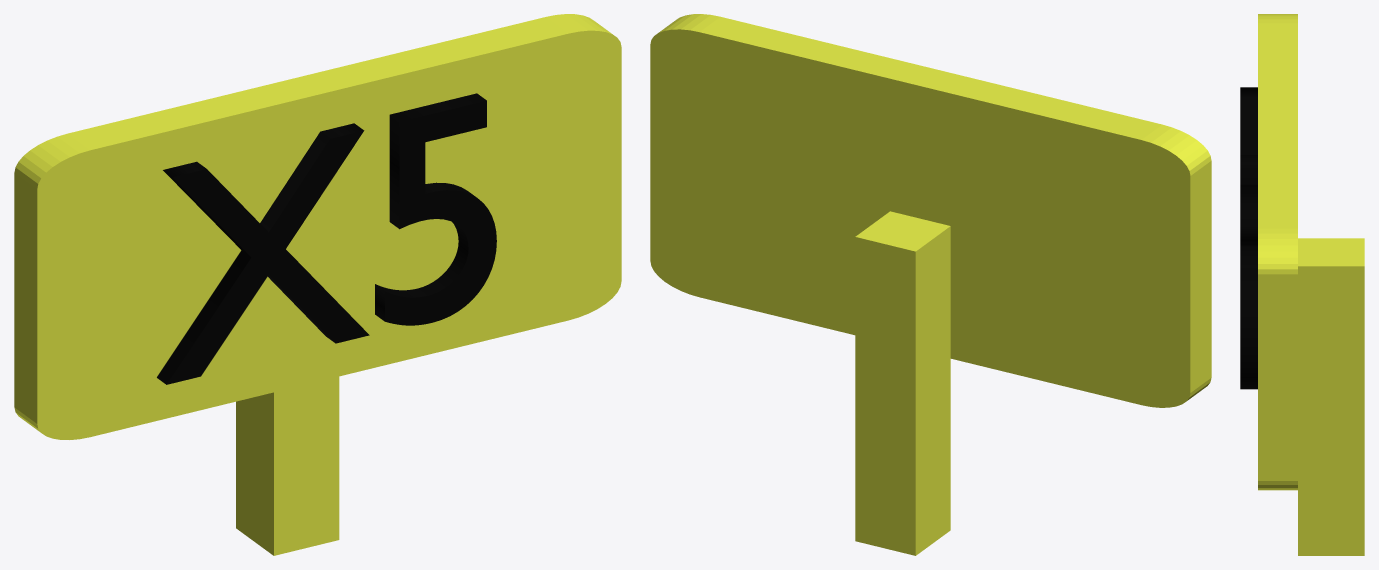
Rendered from End Score Sign X5.fbx.
3 views of the same model, side by side, from view 1: azimuth 30°, elevation 25°; view 2: azimuth 150°, elevation 25°; view 3: azimuth 270°, elevation 25° (orthographic). The views are drawn at different scales.
Visible parts, largest first — view 1: Sign X5, Text.003; view 2: Sign X5; view 3: Sign X5, Text.003.
Part boxes in pixels (box(x1,y1,x2,y2)): Sign X5: box(14, 14, 621, 555); Text.003: box(157, 93, 496, 384); Sign X5: box(650, 14, 1211, 555); Sign X5: box(1258, 14, 1364, 555); Text.003: box(1240, 87, 1257, 389).
Bounding box in the file's own units: 595 × 460 × 124.
